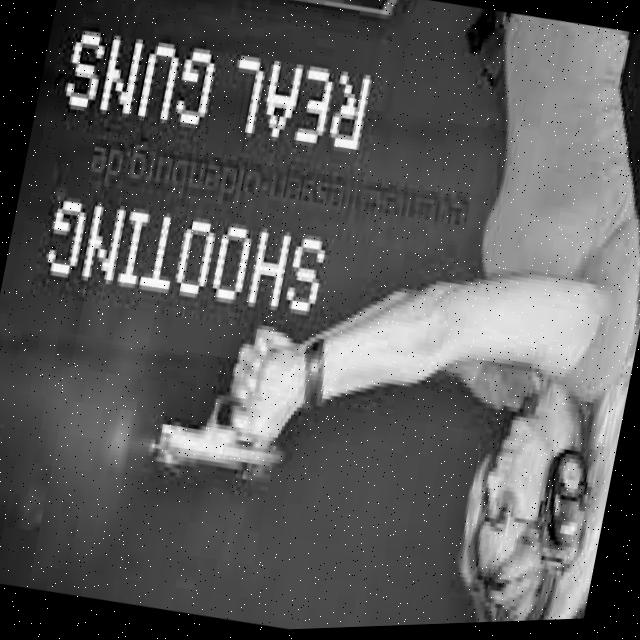pistol: (147, 379, 296, 500)
